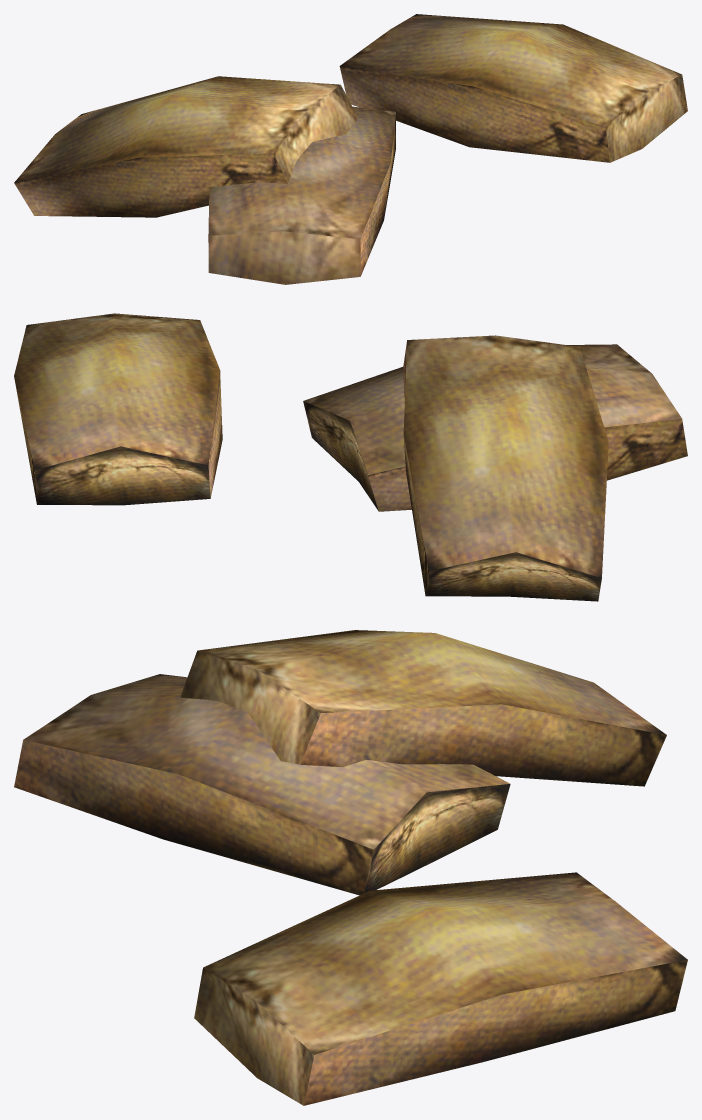
The model's file is sacks.glb.
The picture shows the model from 3 angles, top to bottom: view 1: azimuth 30°, elevation 25°; view 2: azimuth 150°, elevation 25°; view 3: azimuth 270°, elevation 25°; orthographic projection. The views are drawn at different scales.
Parts seen in each view (by area): view 1: sacks; view 2: sacks; view 3: sacks.
Part boxes in pixels (box(x1,y1,x2,y2)): sacks: box(14, 14, 687, 284); sacks: box(14, 313, 687, 601); sacks: box(14, 630, 687, 1105).
Size of the model in its own units: 2.31 by 0.4697 by 1.58.
Materials: 1 (1 with a texture image).
